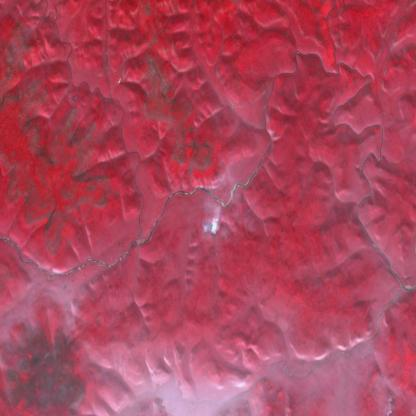fire: (160, 140, 294, 291)
